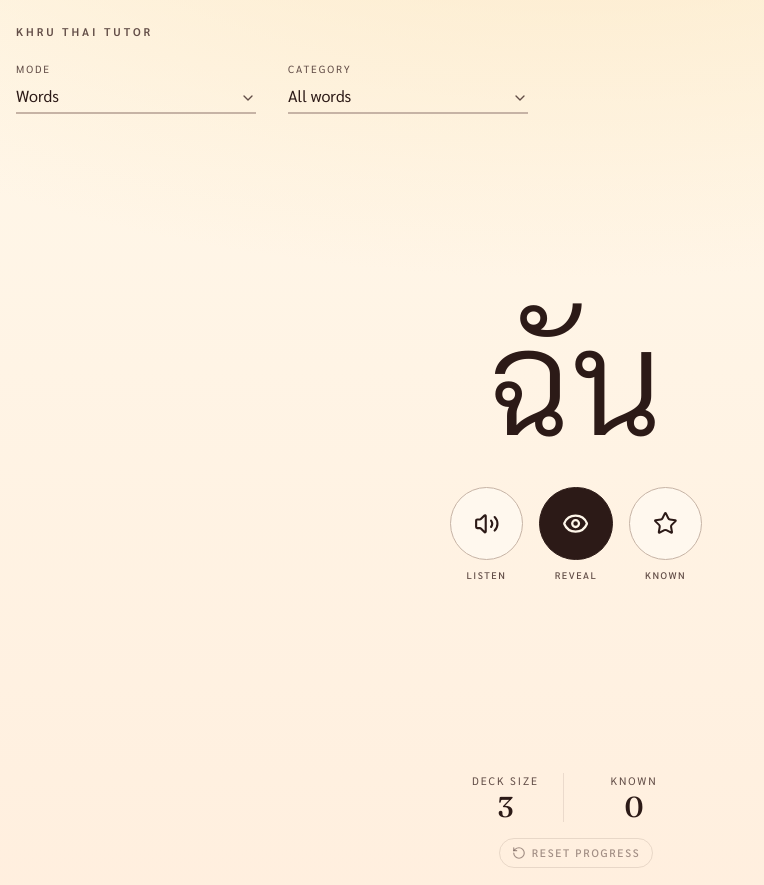
App › reveals transliteration, meaning, and note for the active card
Expected: the text "ฉัน" is shown, top-left (490, 296), bottom-right (662, 455)
Expected: the text "I; me" is not shown
Click the button named "reveal". click: (576, 524)
box: top-left (539, 487), bottom-right (613, 560)
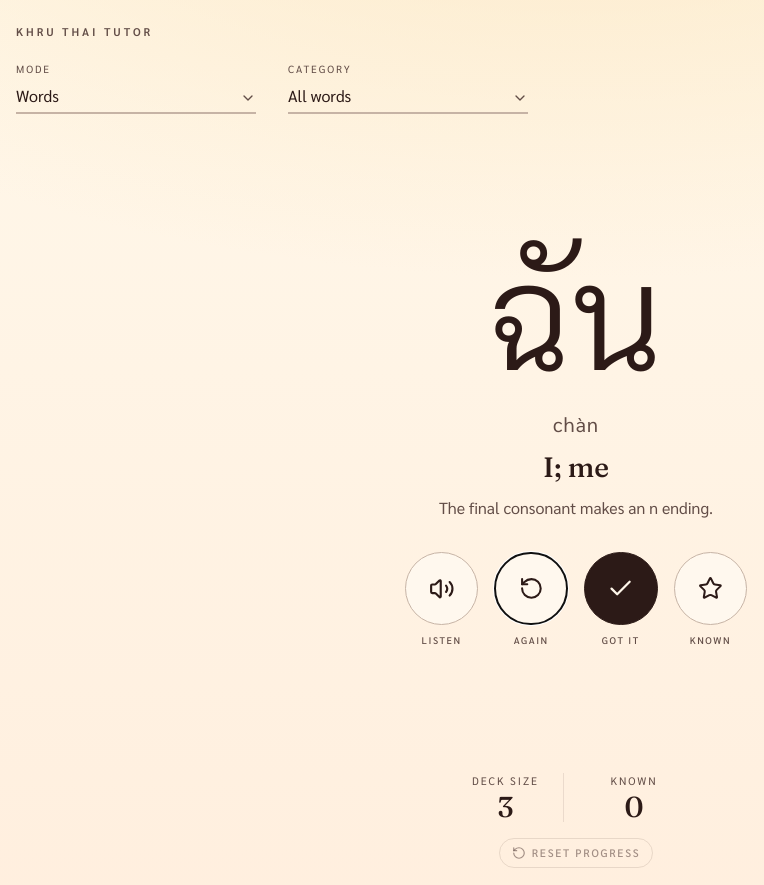
Expected: the text "chàn" is shown, top-left (553, 410), bottom-right (599, 438)
Expected: the text "I; me" is shown, top-left (543, 446), bottom-right (609, 488)
Expected: the text "The final consonant makes an n ending." is shown, top-left (439, 496), bottom-right (713, 520)
